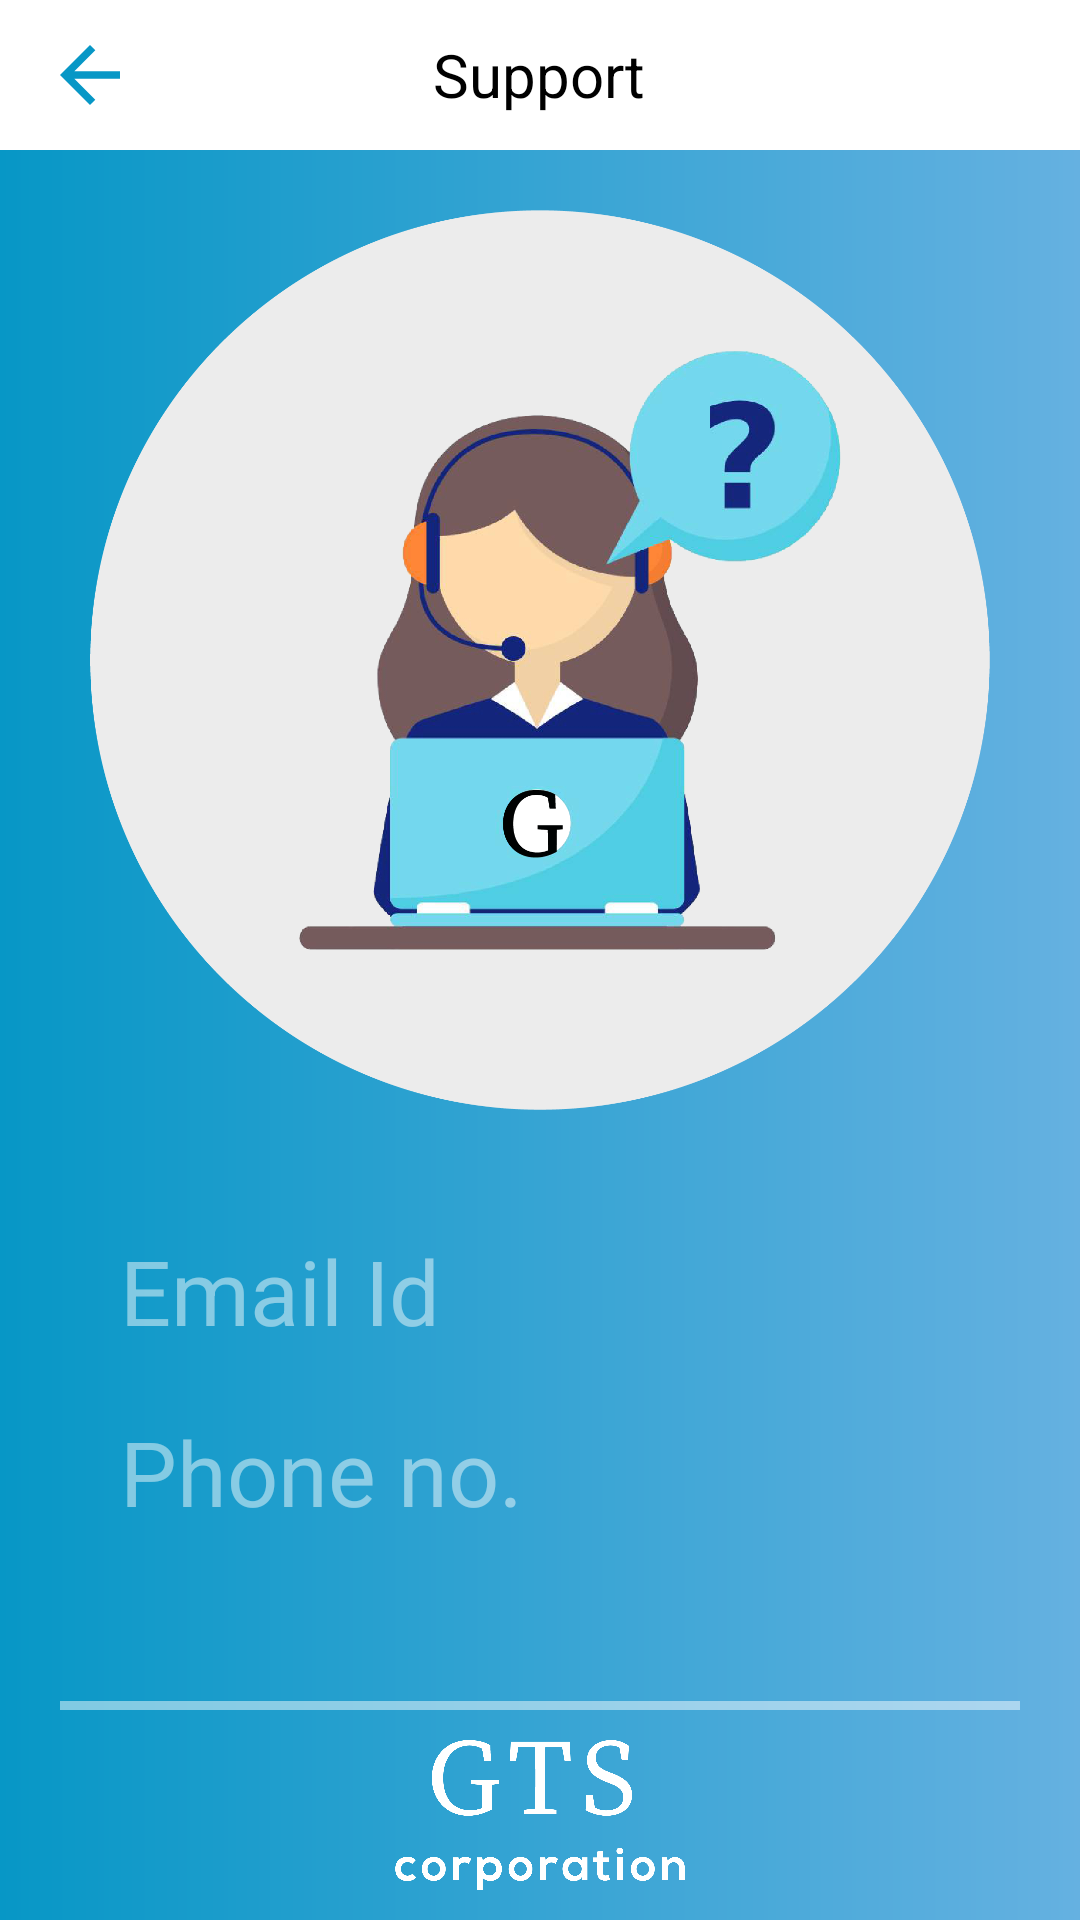

Icons on this 1080x1920 Android screen, each with its box as (x1, y1, x2, y2):
arrow back: (60, 45, 120, 105)
